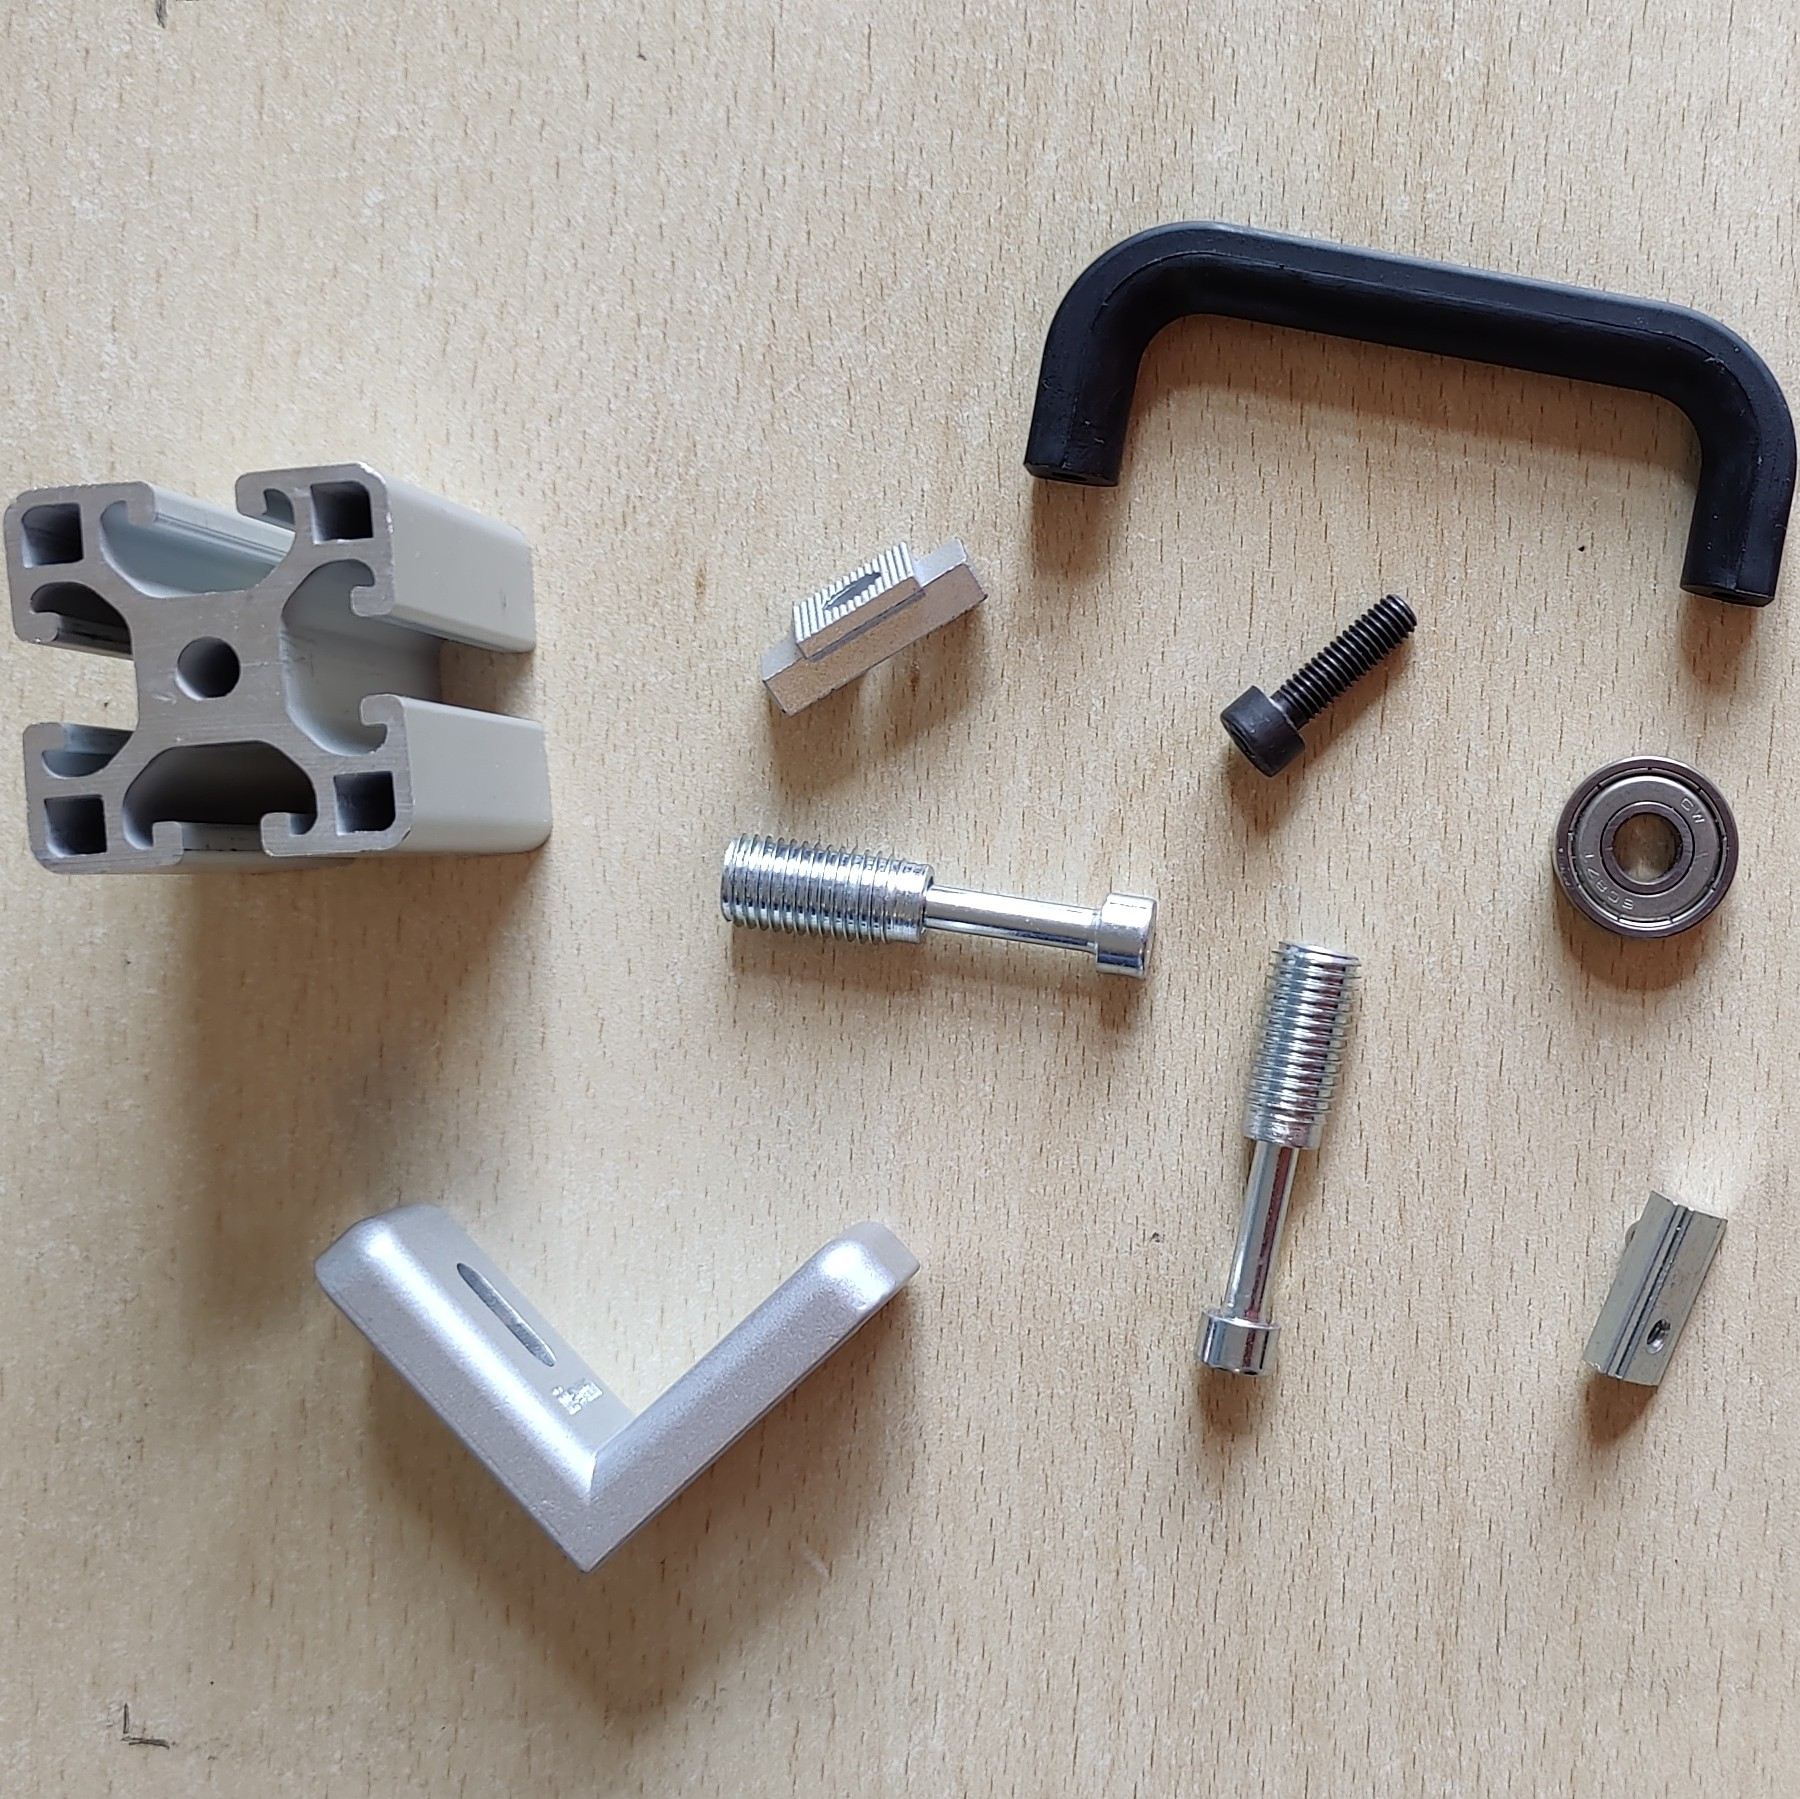Aluminium Extension: (2, 458, 557, 880)
Ball Bearing: (1546, 755, 1744, 944)
Multiwinkel: (310, 1194, 926, 1578)
Pull Handle: (1019, 217, 1800, 610)
Shoulder Socket Head Cap Screw: (1191, 937, 1364, 1382), (716, 825, 1163, 987)
Socket Head Cap Screw: (1215, 588, 1420, 781)
T Nut Square: (758, 530, 991, 722)
T Spring Nut: (1579, 1185, 1731, 1390)
